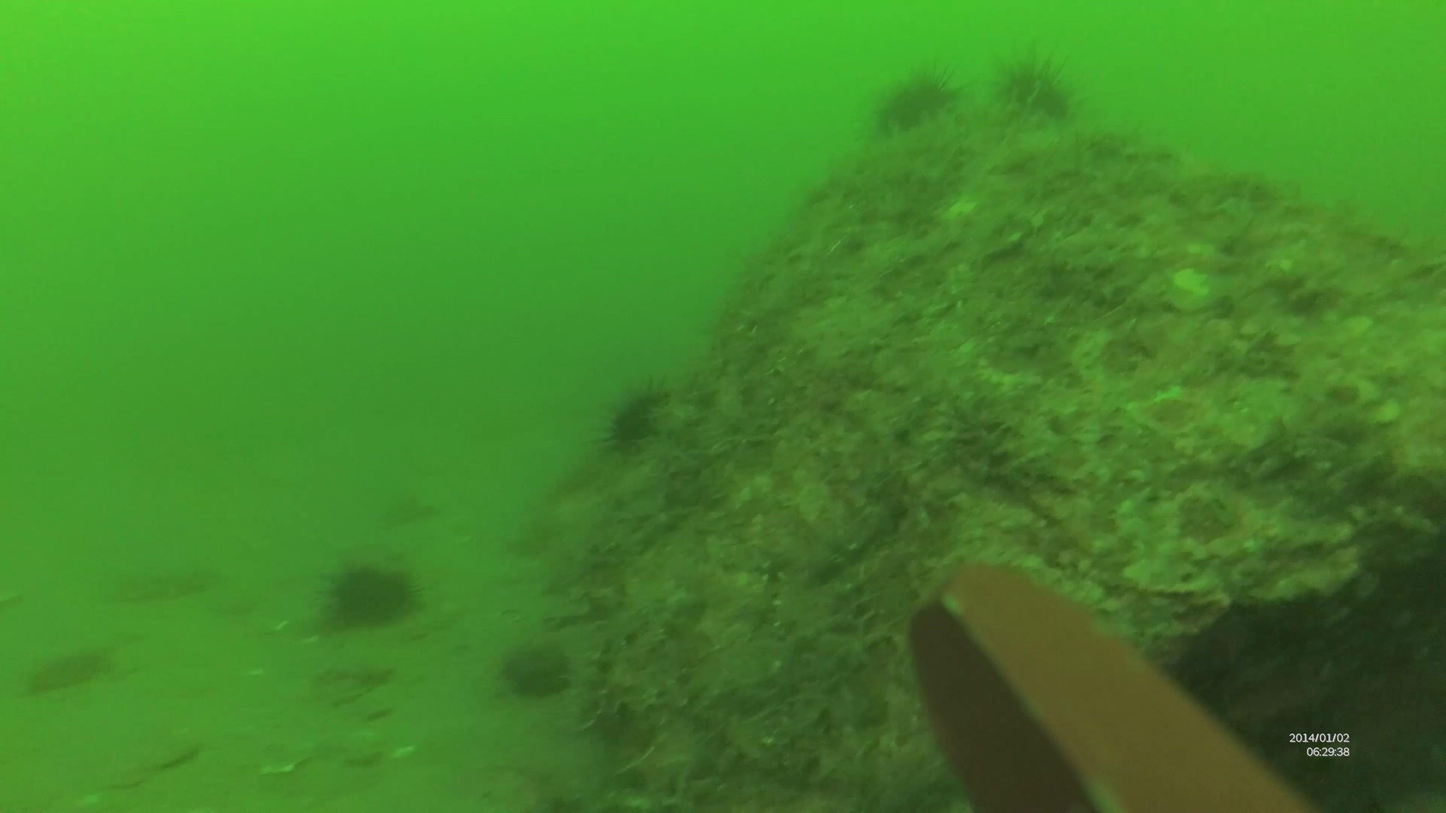starfish: (978, 41, 1076, 134), (319, 560, 440, 634), (867, 66, 964, 143), (593, 385, 675, 454)
